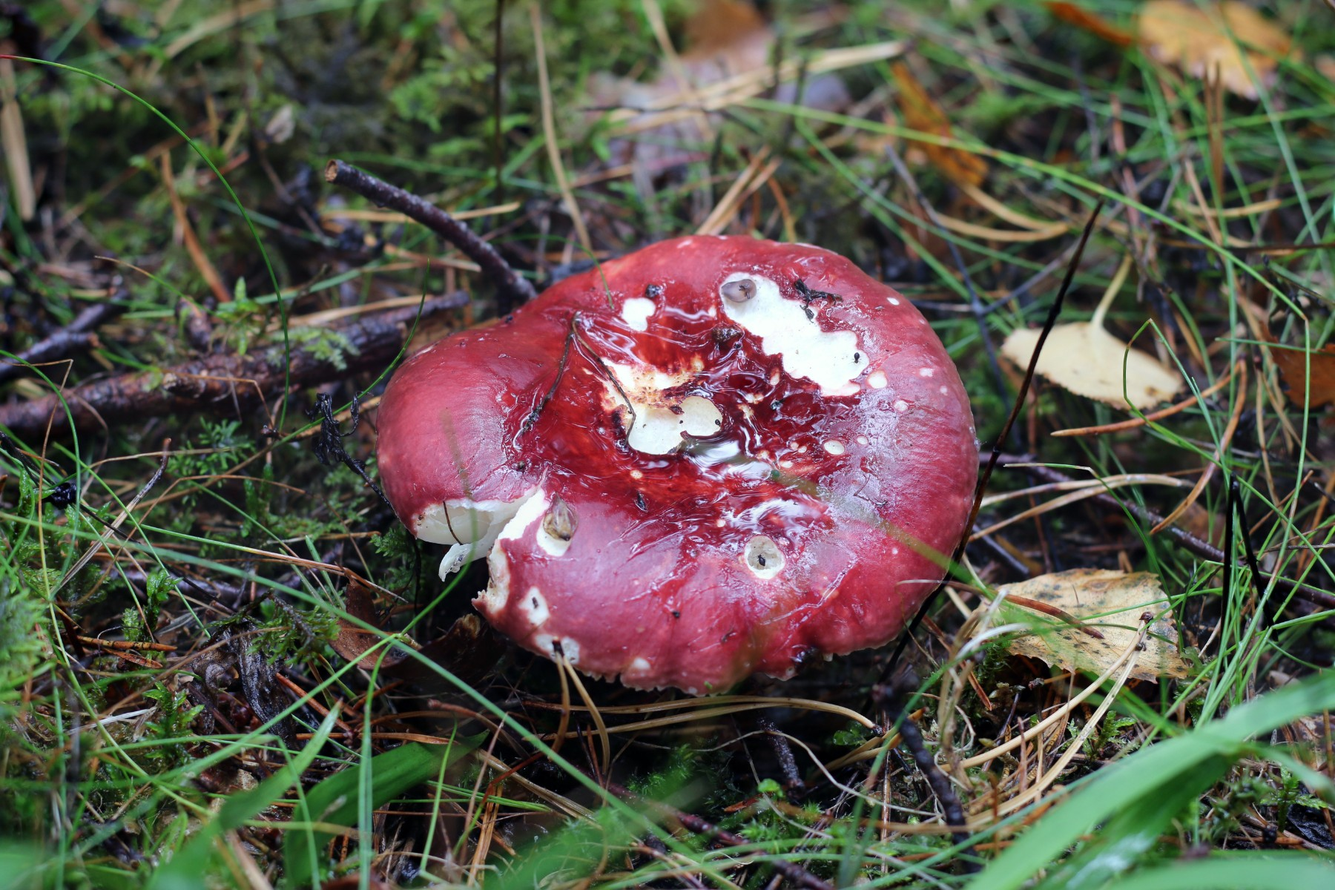cap: (378, 236, 975, 694)
